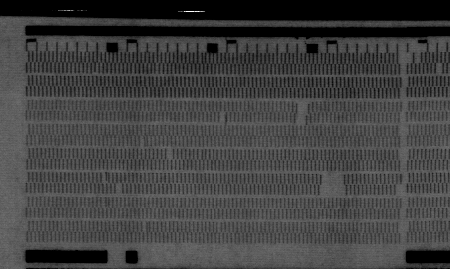Broken hole: (320, 173, 348, 196), (294, 99, 313, 126), (163, 147, 177, 162), (407, 50, 422, 63), (434, 62, 446, 77), (113, 181, 124, 195), (218, 111, 229, 123), (394, 183, 402, 195)
Oblique printing: (139, 220, 153, 235), (98, 195, 112, 208), (99, 171, 110, 184), (138, 135, 148, 148)
